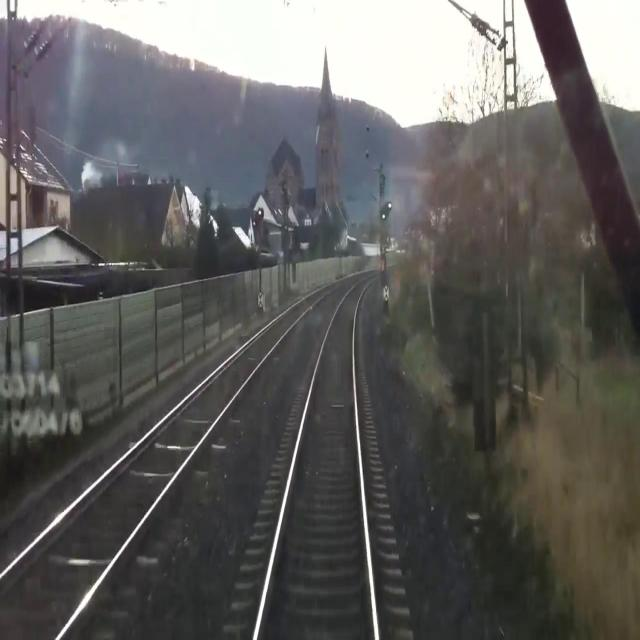rail-track: (0, 268, 381, 639), (257, 275, 374, 639)
